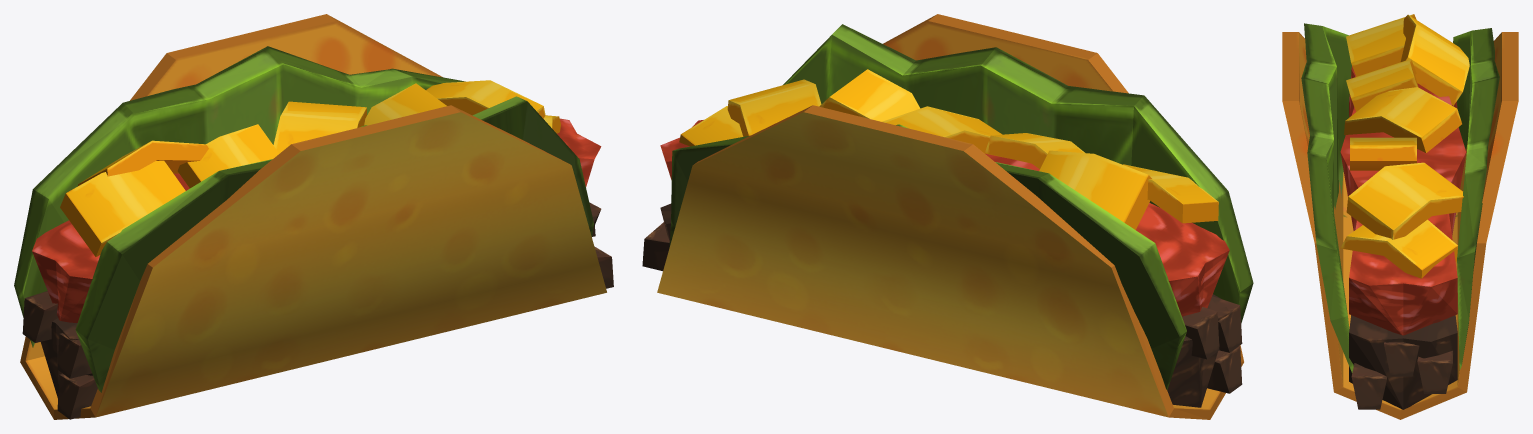
The model's file is taco-low-poly.fbx.
3 renders of one model, left to right at view 1: azimuth 30°, elevation 25°; view 2: azimuth 150°, elevation 25°; view 3: azimuth 270°, elevation 25°, orthographic. The views are drawn at different scales.
Visible parts, largest first — view 1: taco; view 2: taco; view 3: taco.
Part boxes in pixels (x1,y1,x2,y2): taco: (14,14,613,419); taco: (642,14,1253,419); taco: (1282,14,1518,419).
Size of the model in its own units: 19.09 by 9 by 7.97.
Materials: 1 (1 with a texture image).
